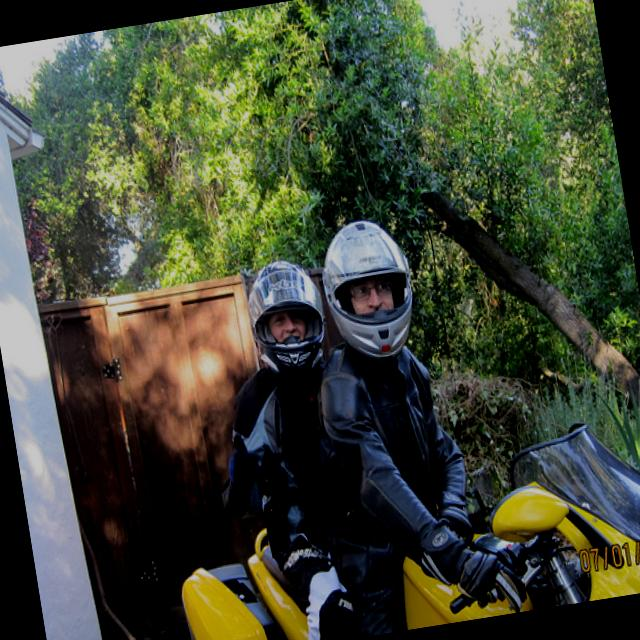Vehicle: (161, 408, 640, 640)
